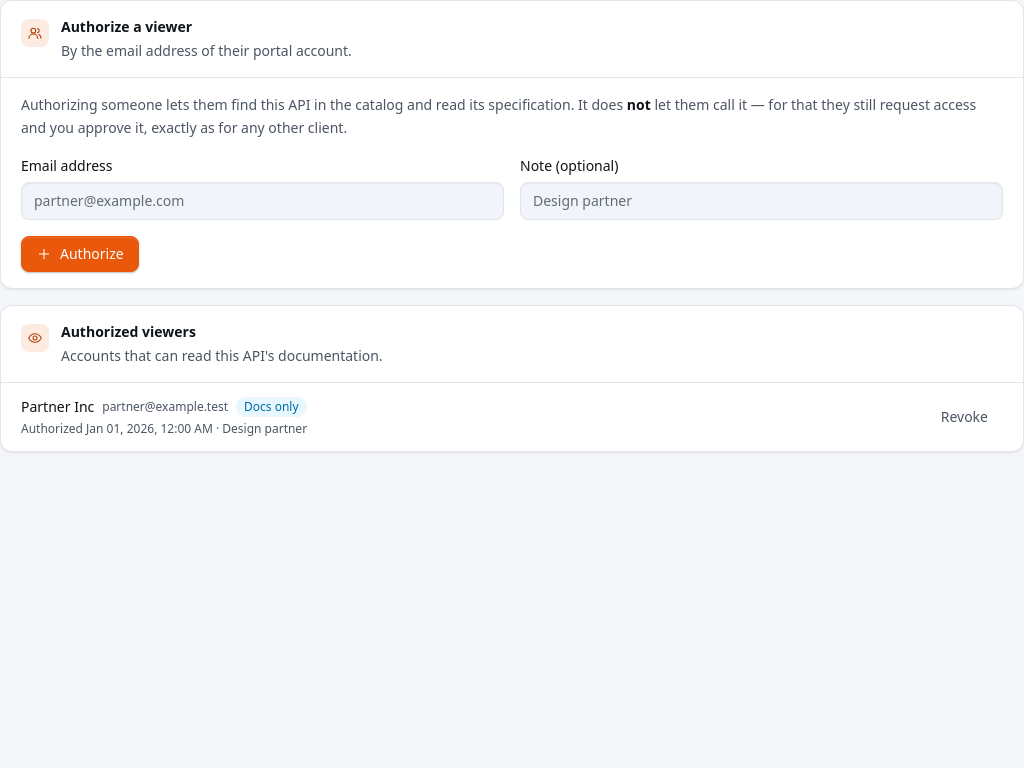
Scenario: private API viewers › says a revoke leaves the account’s grant alone
The width and height of the screenshot is (1024, 768).
Expected: the text "Partner Inc" is shown, [21, 396, 94, 416]
Click the button "Revoke".
click(964, 416)  # box [926, 398, 1003, 434]
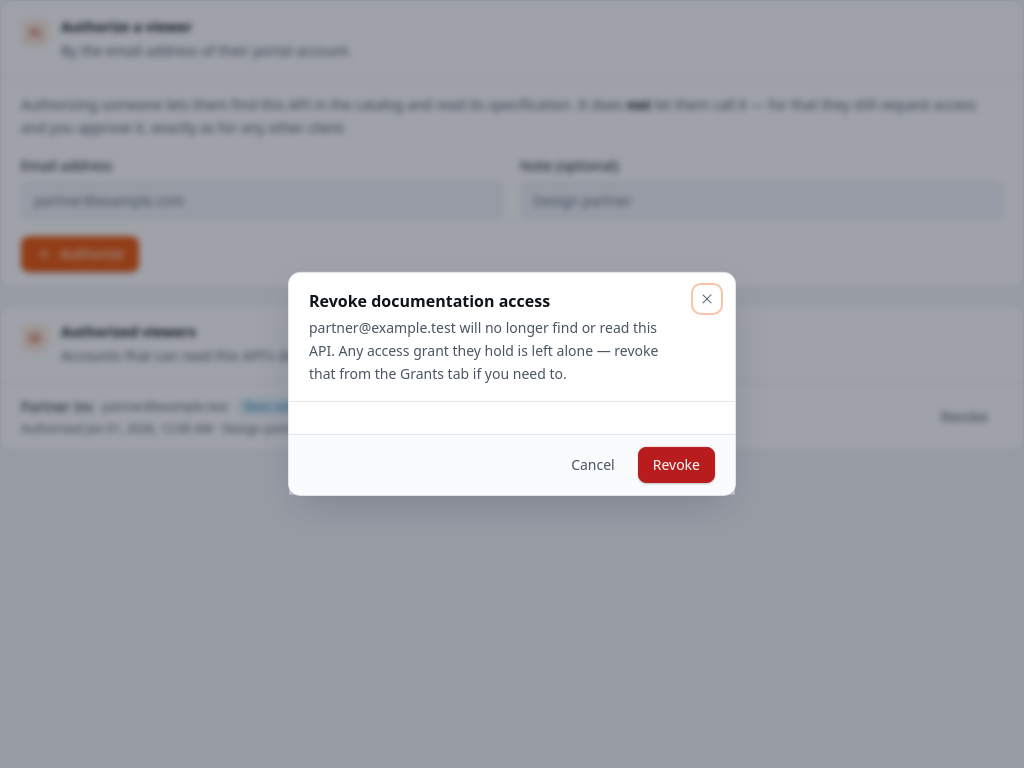
Expected: the text "access grant they hold is left alone" is shown, [309, 318, 658, 382]
Click the button "Revoke".
click(676, 465)  # box [638, 447, 715, 483]
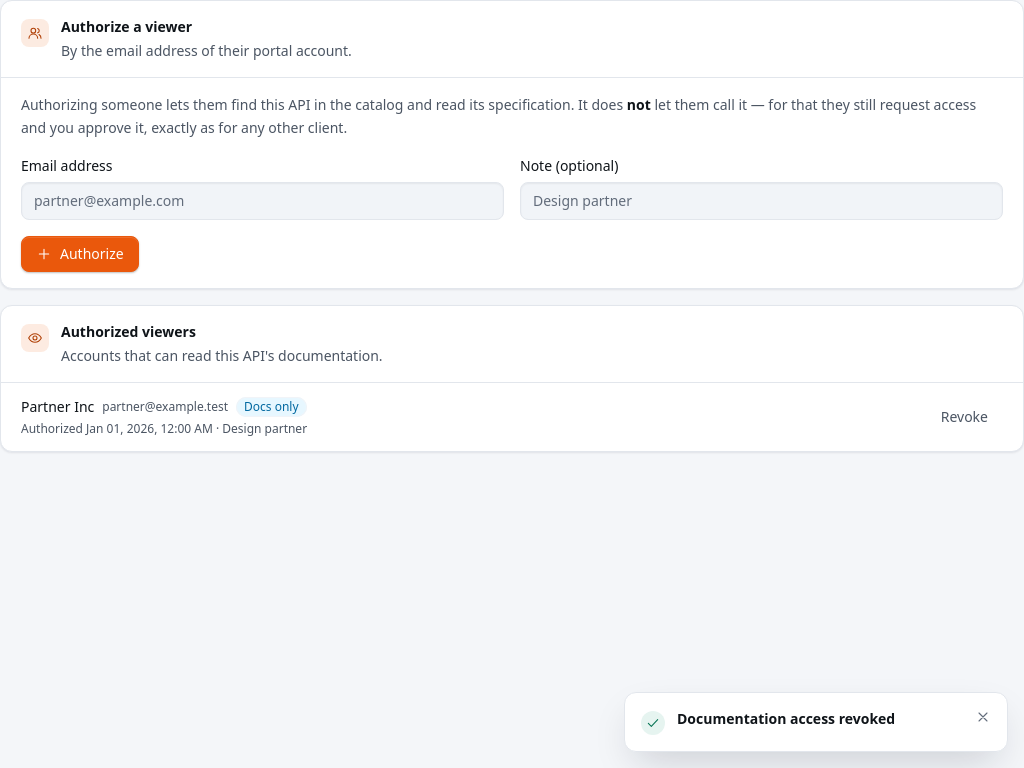
Expected: the text "Documentation access revoked" is shown, [677, 709, 895, 728]
